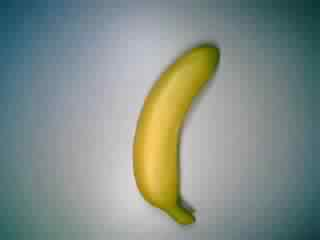banana: (127, 45, 221, 224)
